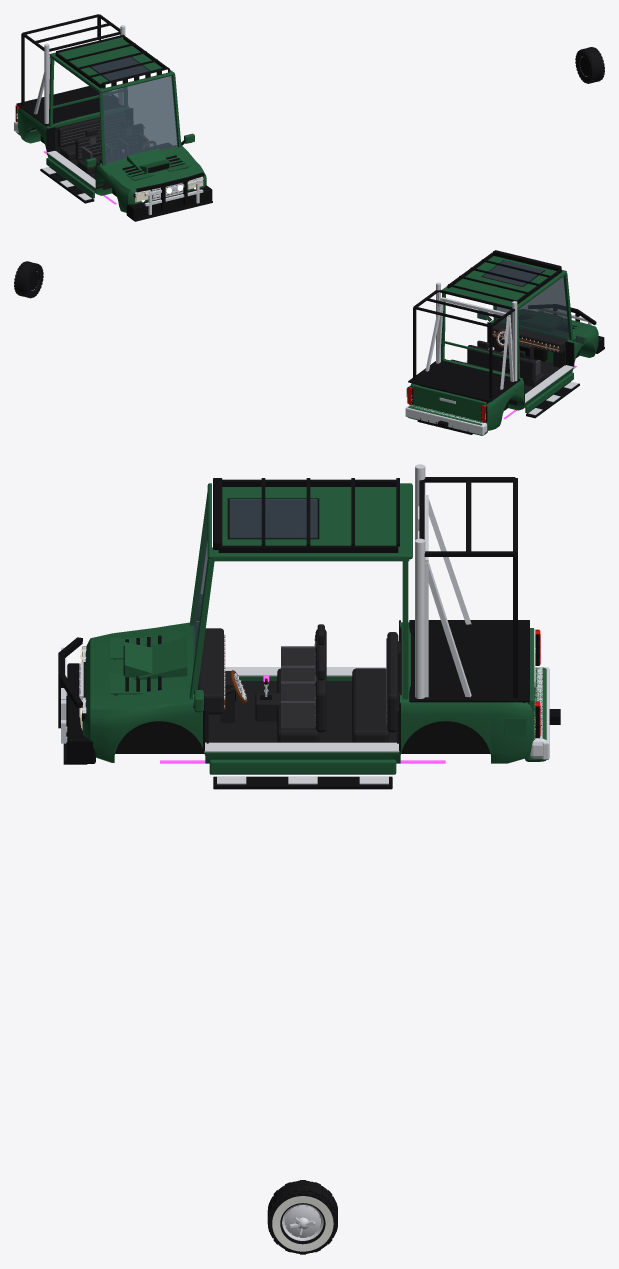
Rendered from GeneralsCart.glb.
3 renders of one model, top to bottom at view 1: azimuth 30°, elevation 25°; view 2: azimuth 150°, elevation 25°; view 3: azimuth 270°, elevation 25°, orthographic. The views are drawn at different scales.
Parts seen in each view (by area): view 1: GeneralsCart_Glass, GeneralsCart_PanelRoof, GeneralsCart_OptBedCoverDark, GeneralsCart_PanelHood, GeneralsCart_OptSeatsBucketsSeat, GeneralsCart_OptFrontBumperBullDark, GeneralsCart_RoofBody, GeneralsCart_OptBedRackDark, GeneralsCart_PanelSideR, GeneralsCart_OptTopRackDark, GeneralsCart_Body, GeneralsCart_OptTopSunroofDark (+15 smaller); view 2: GeneralsCart_OptBedCoverDark, GeneralsCart_Glass, GeneralsCart_PanelRoof, GeneralsCart_OptBedRackDark, GeneralsCart_Lid, GeneralsCart_OptBedRollbarChrome, GeneralsCart_PanelSideR, GeneralsCart_OptTopRackDark, GeneralsCart_RoofBody, GeneralsCart_Body, GeneralsCart_OptSeatsDiamondSeat, GeneralsCart_OptTopSunroofDark (+16 smaller); view 3: GeneralsCart_PanelSideL, GeneralsCart_PanelRoof, GeneralsCart_OptBedCoverDark, GeneralsCart_PanelHood, GeneralsCart_Carpet, GeneralsCart_Under, GeneralsCart_OptSeatsBucketsSeat, GeneralsCart_OptTopRackDark, GeneralsCart_OptTopSunroofDark, GeneralsCart_RoofBody, GeneralsCart_OptTopSunroofGlass, GeneralsCart_OptSkirtsRockerBody (+12 smaller).
Boxes of the visible parts, x1,y1,x2,y2 form: GeneralsCart_Glass: [102, 76, 177, 164]; GeneralsCart_PanelRoof: [49, 37, 174, 92]; GeneralsCart_OptBedCoverDark: [16, 86, 123, 126]; GeneralsCart_PanelHood: [102, 146, 203, 192]; GeneralsCart_OptSeatsBucketsSeat: [57, 113, 139, 172]; GeneralsCart_OptFrontBumperBullDark: [126, 172, 212, 220]; GeneralsCart_RoofBody: [48, 55, 181, 165]; GeneralsCart_OptBedRackDark: [21, 14, 120, 105]; GeneralsCart_PanelSideR: [17, 107, 130, 211]; GeneralsCart_OptTopRackDark: [55, 34, 169, 88]; GeneralsCart_Body: [19, 107, 206, 212]; GeneralsCart_OptTopSunroofDark: [90, 57, 150, 80]; GeneralsCart_OptBedCoverDark: [408, 360, 520, 402]; GeneralsCart_Glass: [496, 277, 569, 339]; GeneralsCart_PanelRoof: [442, 256, 566, 307]; GeneralsCart_OptBedRackDark: [413, 290, 514, 398]; GeneralsCart_Lid: [411, 384, 486, 421]; GeneralsCart_OptBedRollbarChrome: [425, 297, 513, 389]; GeneralsCart_PanelSideR: [486, 327, 598, 429]; GeneralsCart_OptTopRackDark: [447, 251, 561, 304]; GeneralsCart_RoofBody: [441, 273, 573, 378]; GeneralsCart_Body: [410, 320, 595, 430]; GeneralsCart_OptSeatsDiamondSeat: [467, 345, 544, 387]; GeneralsCart_OptTopSunroofDark: [481, 260, 545, 286]; GeneralsCart_PanelSideL: [90, 702, 534, 763]; GeneralsCart_PanelRoof: [207, 483, 412, 559]; GeneralsCart_OptBedCoverDark: [409, 620, 529, 702]; GeneralsCart_PanelHood: [84, 623, 192, 713]; GeneralsCart_Carpet: [195, 630, 401, 752]; GeneralsCart_Under: [115, 620, 490, 753]; GeneralsCart_OptSeatsBucketsSeat: [277, 624, 398, 742]; GeneralsCart_OptTopRackDark: [216, 478, 399, 552]; GeneralsCart_OptTopSunroofDark: [227, 498, 319, 539]; GeneralsCart_RoofBody: [189, 492, 409, 699]; GeneralsCart_OptTopSunroofGlass: [229, 499, 317, 538]; GeneralsCart_OptSkirtsRockerBody: [209, 759, 396, 774].
Size of the model in its own units: 33.96 by 8.46 by 13.7.
